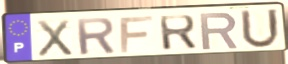F: (118, 14, 156, 55)
R: (74, 16, 118, 56), (198, 11, 240, 51), (157, 14, 199, 52)
U: (238, 7, 282, 50)
X: (35, 18, 75, 59)
